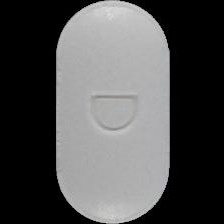65862-287: (0, 0, 224, 224)
